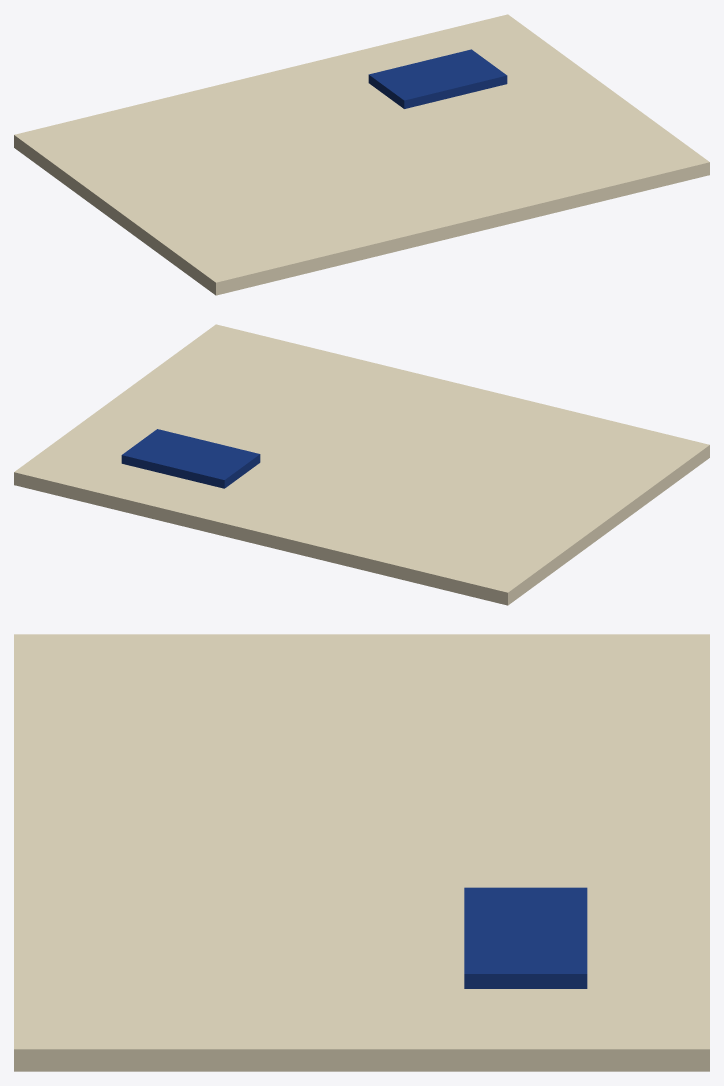
The model's file is doc_terceiro.glb.
3 renders of one model, top to bottom at view 1: azimuth 30°, elevation 25°; view 2: azimuth 150°, elevation 25°; view 3: azimuth 270°, elevation 25°, orthographic. The views are drawn at different scales.
Parts seen in each view (by area): view 1: doc_terceiro; view 2: doc_terceiro; view 3: doc_terceiro.
Boxes of the visible parts, bbox=[...] form: doc_terceiro: bbox=[14, 14, 709, 295]; doc_terceiro: bbox=[14, 324, 709, 605]; doc_terceiro: bbox=[14, 634, 709, 1071].
Size of the model in its own units: 0.24 by 0.01 by 0.17.
